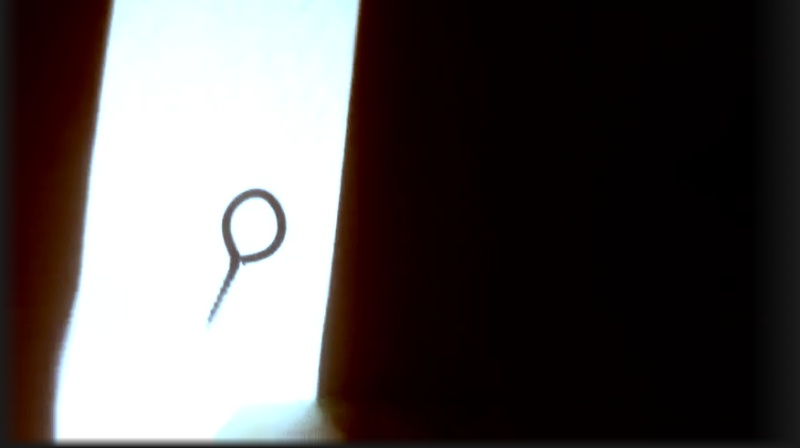O001: (198, 184, 289, 332)
